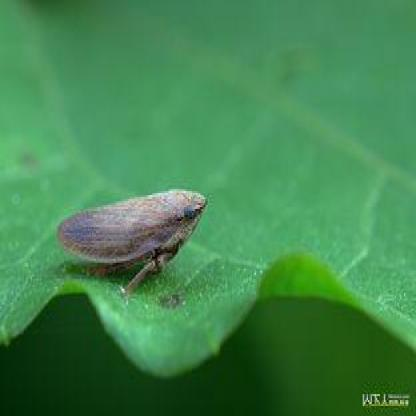Green-Leafhopper: (50, 187, 214, 302)
